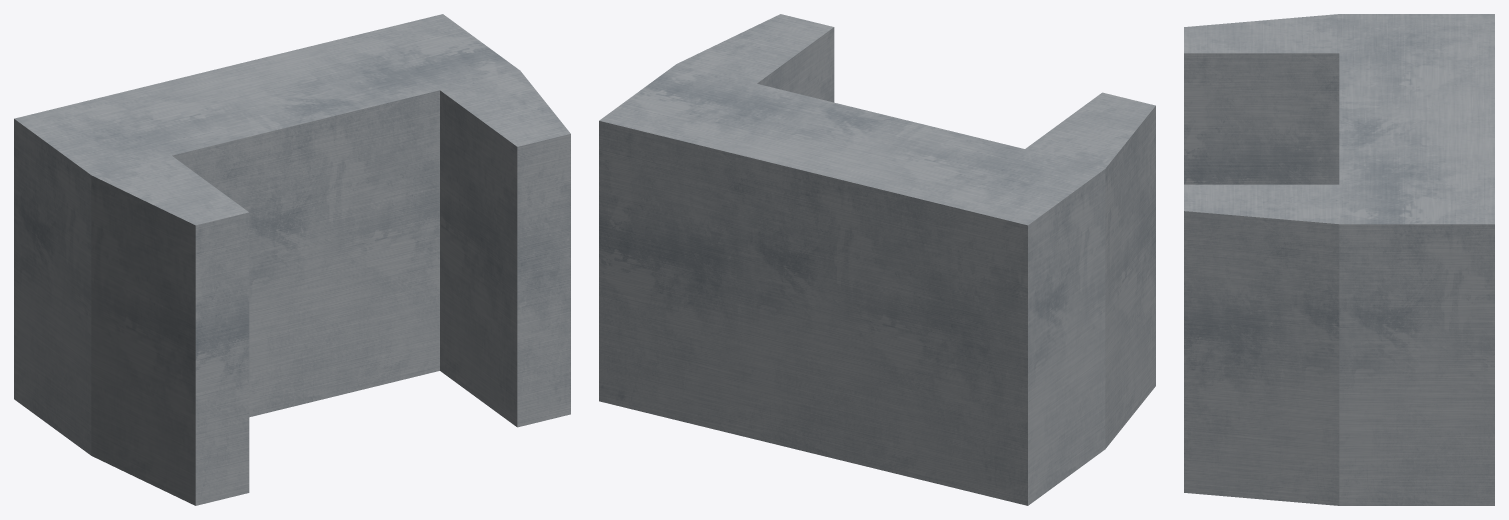
File: Superconductor-Contactor.obj
3 renders of one model, left to right at view 1: azimuth 30°, elevation 25°; view 2: azimuth 150°, elevation 25°; view 3: azimuth 270°, elevation 25°, orthographic.
Parts seen in each view (by area): view 1: Superconductor-Contactor; view 2: Superconductor-Contactor; view 3: Superconductor-Contactor.
Boxes of the visible parts, x1,y1,x2,y2 form: Superconductor-Contactor: (14,14,570,505); Superconductor-Contactor: (599,14,1155,505); Superconductor-Contactor: (1184,14,1494,505).
Size of the model in its own units: 0.8 by 0.5 by 0.5.
